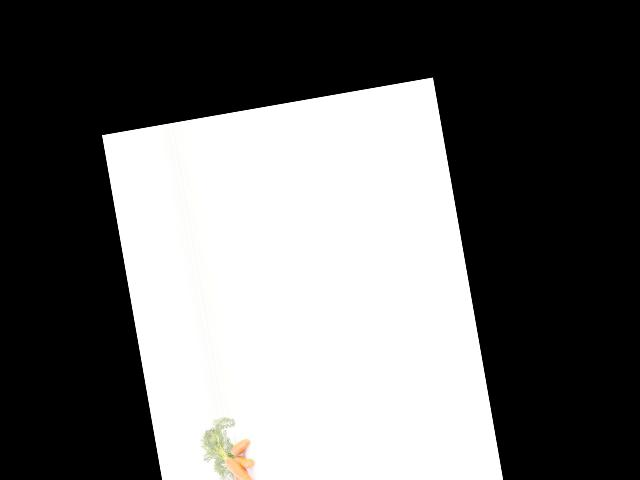carrot: (220, 447, 262, 480)
